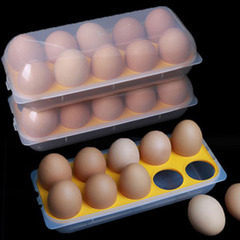egg: (38, 120, 204, 210), (11, 11, 191, 89), (21, 78, 191, 134), (189, 183, 240, 235)
